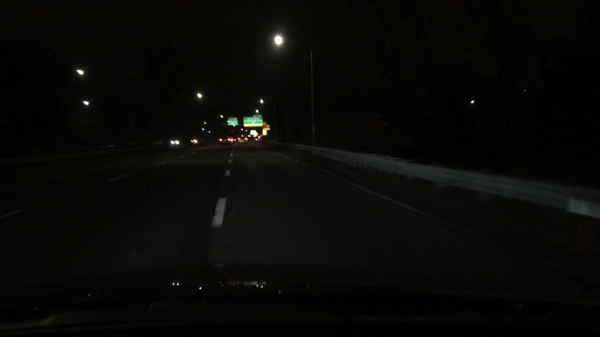car: (217, 135, 235, 147), (168, 136, 182, 146), (188, 137, 203, 145), (237, 135, 248, 144), (254, 134, 264, 143), (241, 133, 251, 139), (233, 137, 240, 141)
traffic sign: (242, 115, 263, 127), (228, 118, 238, 125), (263, 128, 267, 135), (263, 127, 271, 130)
